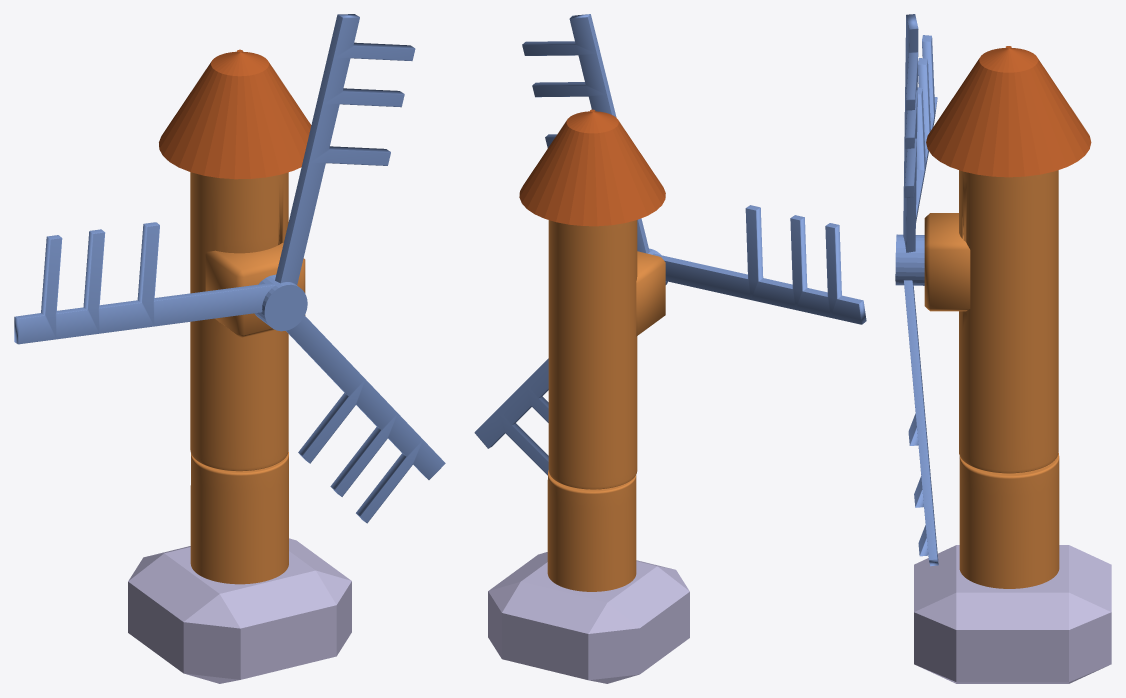
The model's file is WINDMILL.fbx.
3 views of the same model, side by side, from view 1: azimuth 30°, elevation 25°; view 2: azimuth 150°, elevation 25°; view 3: azimuth 270°, elevation 25° (orthographic). The views are drawn at different scales.
Visible parts, largest first — view 1: Cube.001, Cylinder.002, Cylinder.003, Cylinder.001, Plane.001, Plane, Plane.002, Cube, Cylinder; view 2: Cylinder.002, Cube.001, Cylinder.003, Cylinder.001, Plane.001, Plane, Plane.002, Cube; view 3: Cylinder.002, Cube.001, Cylinder.003, Cylinder.001, Cube, Plane.002, Plane, Plane.001, Cylinder.
Boxes of the visible parts, box(x1,y1,x2,y2) form: Cube.001: box(128, 538, 351, 683); Cylinder.002: box(190, 172, 288, 471); Cylinder.003: box(159, 49, 311, 179); Cylinder.001: box(190, 452, 288, 584); Plane.001: box(14, 222, 275, 344); Plane: box(275, 14, 415, 285); Plane.002: box(286, 316, 445, 523); Cube: box(205, 243, 305, 338); Cylinder: box(254, 274, 307, 331); Cylinder.002: box(548, 220, 637, 489); Cube.001: box(488, 552, 689, 683); Cylinder.003: box(519, 109, 665, 226); Cylinder.001: box(547, 470, 636, 591); Plane.001: box(653, 205, 866, 324); Plane: box(522, 14, 649, 253); Plane.002: box(474, 358, 548, 475); Cube: box(636, 251, 665, 336); Cylinder.002: box(959, 170, 1058, 473); Cube.001: box(914, 545, 1111, 683); Cylinder.003: box(926, 46, 1091, 177); Cylinder.001: box(959, 452, 1059, 588); Cube: box(924, 213, 970, 311); Plane.002: box(903, 280, 938, 566); Plane: box(903, 14, 918, 252); Plane.001: box(916, 35, 937, 222); Cylinder: box(895, 234, 924, 285).
Bounding box in the file's own units: 1053 × 1548 × 452.
